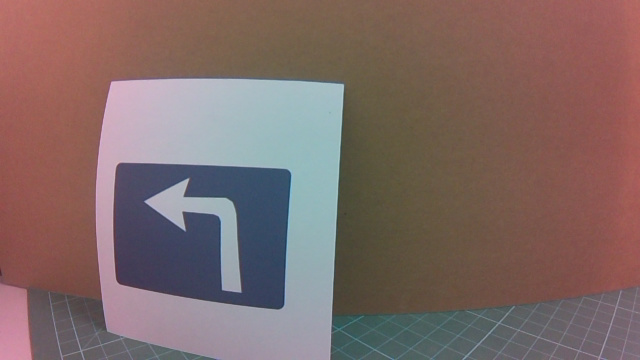left: (124, 153, 316, 321)
